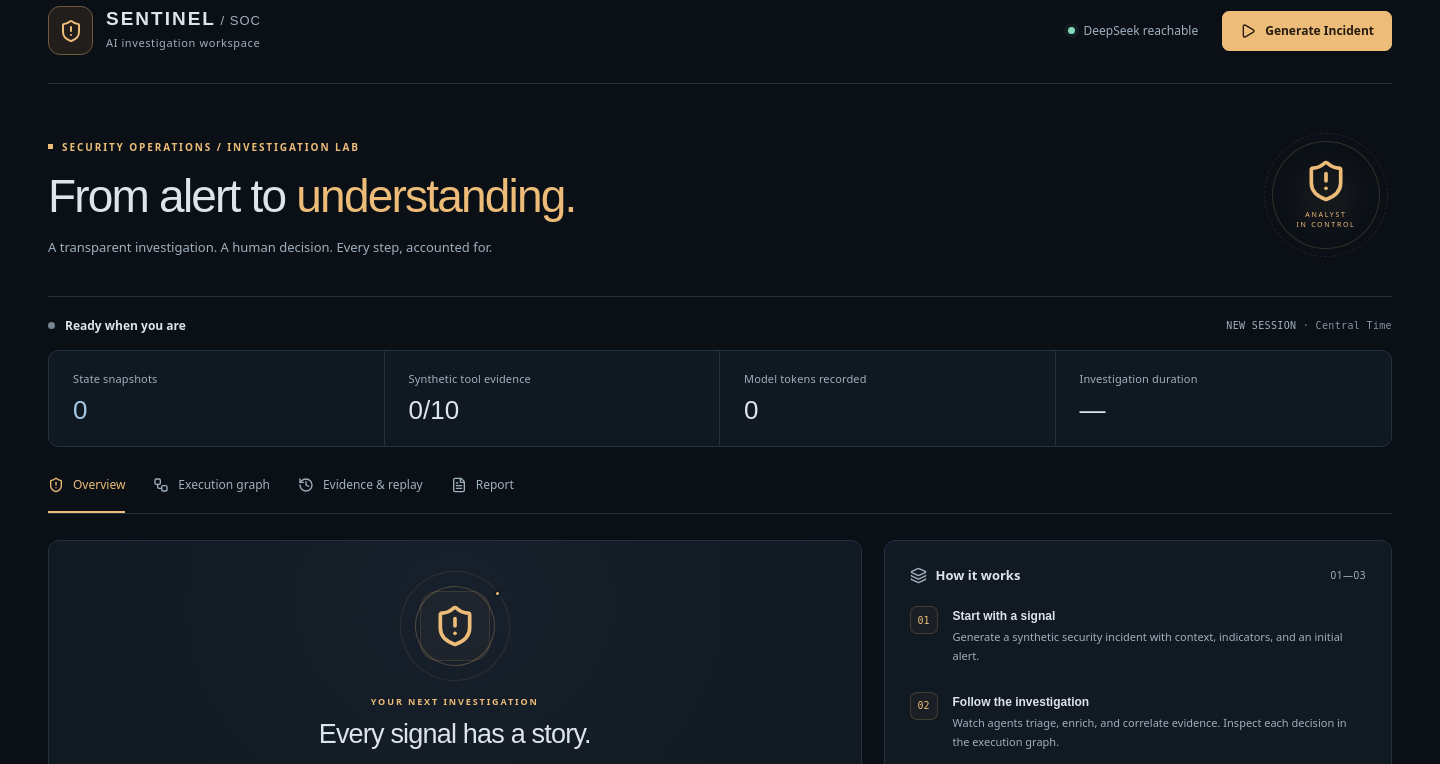
Test case: App › navigates graph, evidence, and report while preserving first-run state
expect the text "DeepSeek reachable" is shown: met, box [1084,22,1198,39]
Click the tab "Execution graph" at coordinates (212, 493), box [153,473,270,513]
(page scrolled)
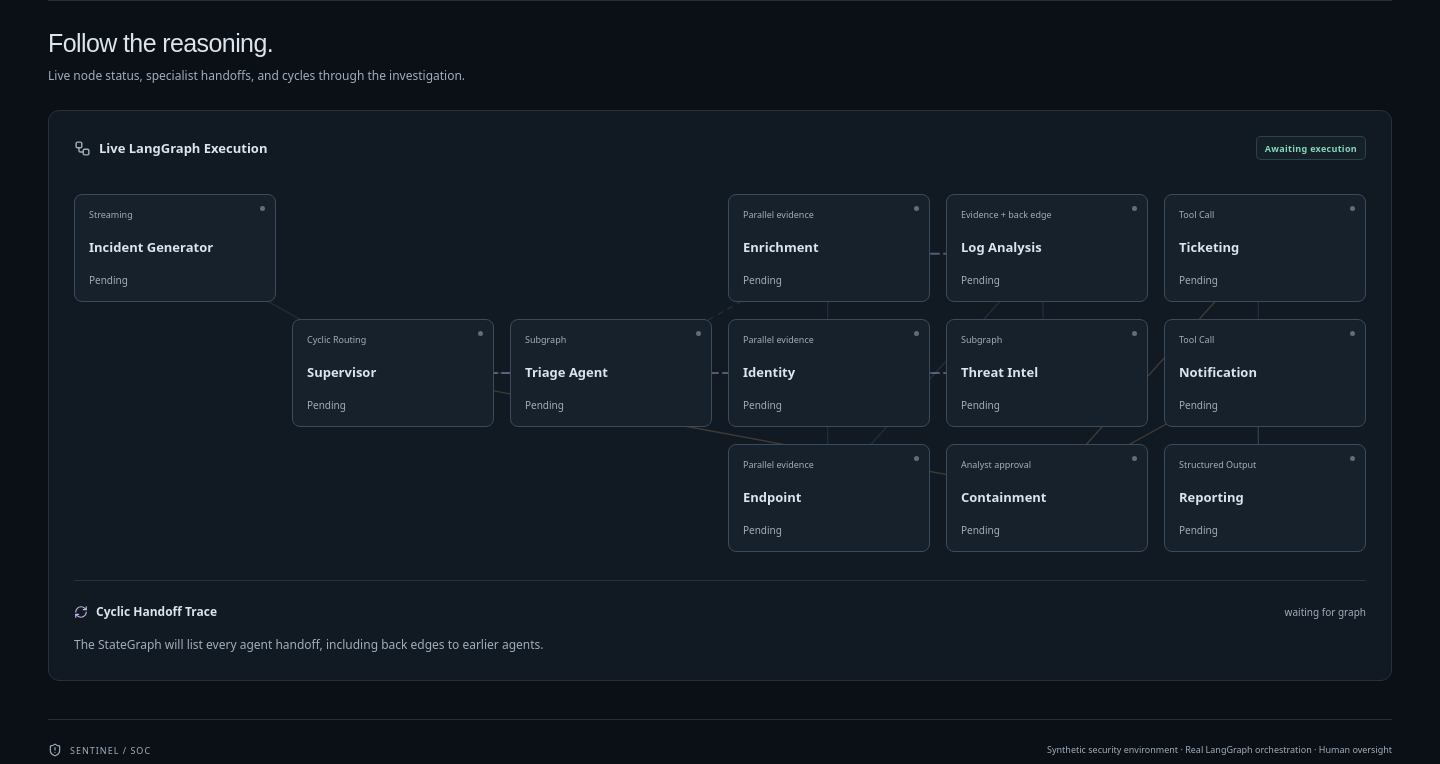
expect the text "Live LangGraph Execution" is shown: met, box [74,139,267,157]
expect the text "Cyclic Handoff Trace" is shown: met, box [96,603,217,620]
expect the heading "Every signal has a story." is gone: met
Press Arrowright
(page scrolled)
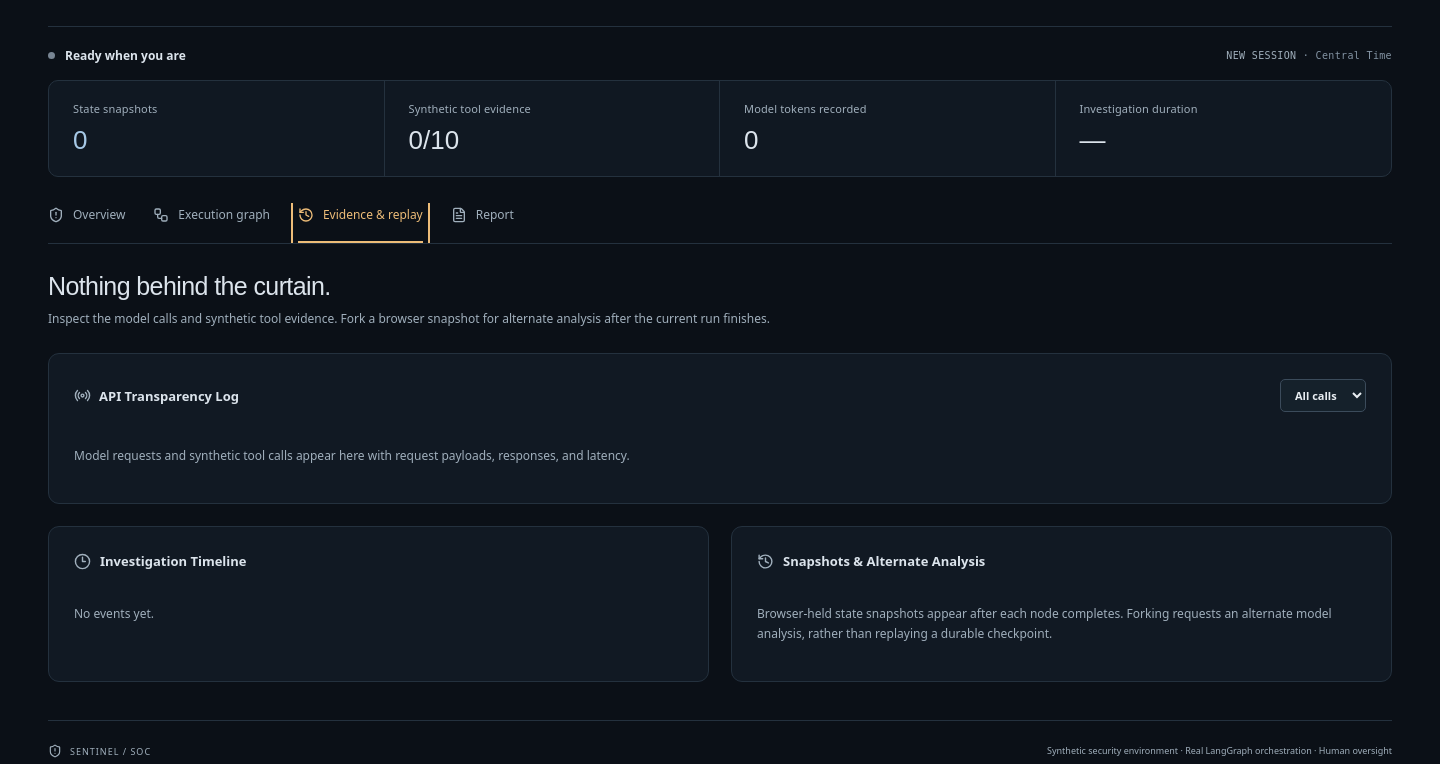
expect the text "Snapshots & Alternate Analysis" is shown: met, box [757,552,985,570]
expect the dropdown named "Filter API evidence" is shown: met, box [1280,379,1366,412]
Press End
(page scrolled)
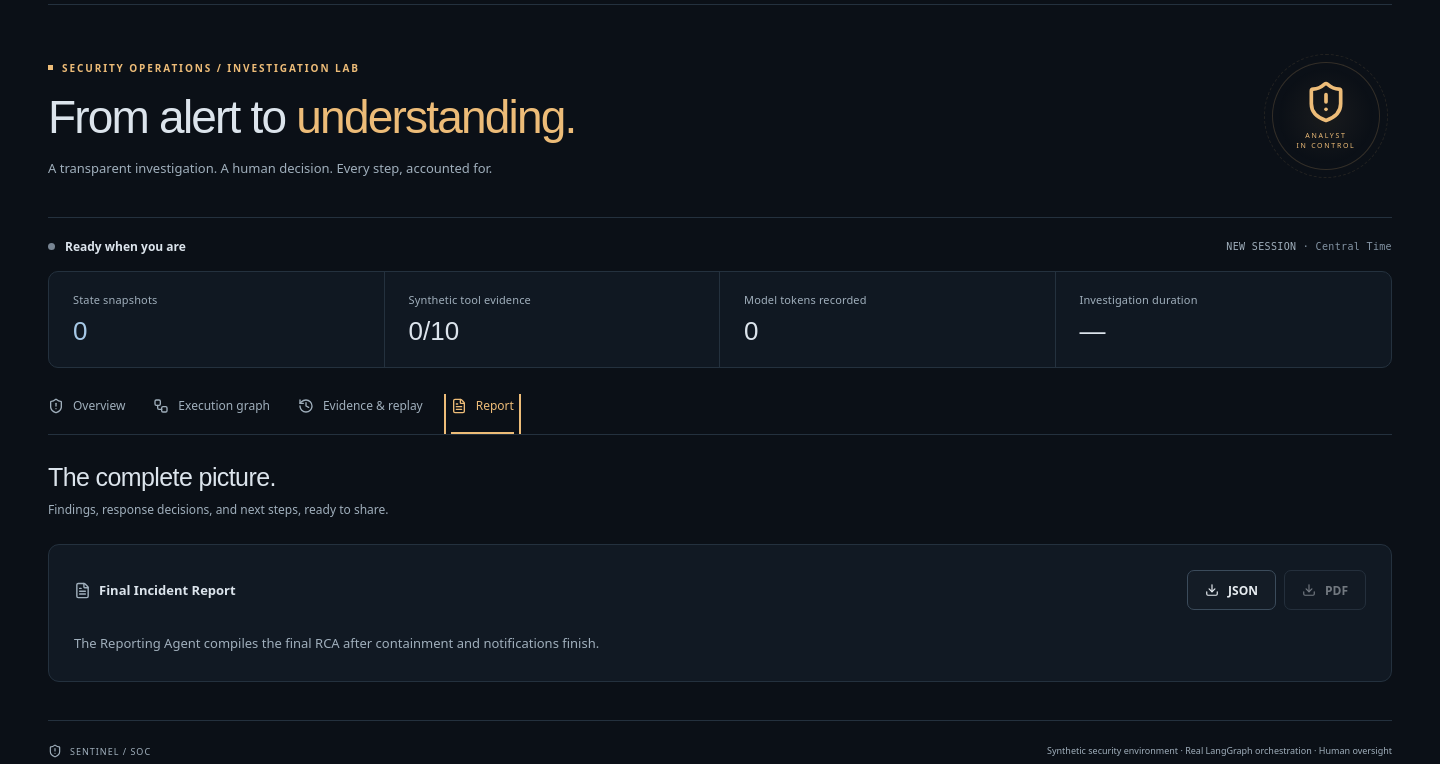
expect the text "Final Incident Report" is shown: met, box [74,581,236,599]
expect the button "PDF" is disabled: met, box [1284,570,1366,610]
Press Home
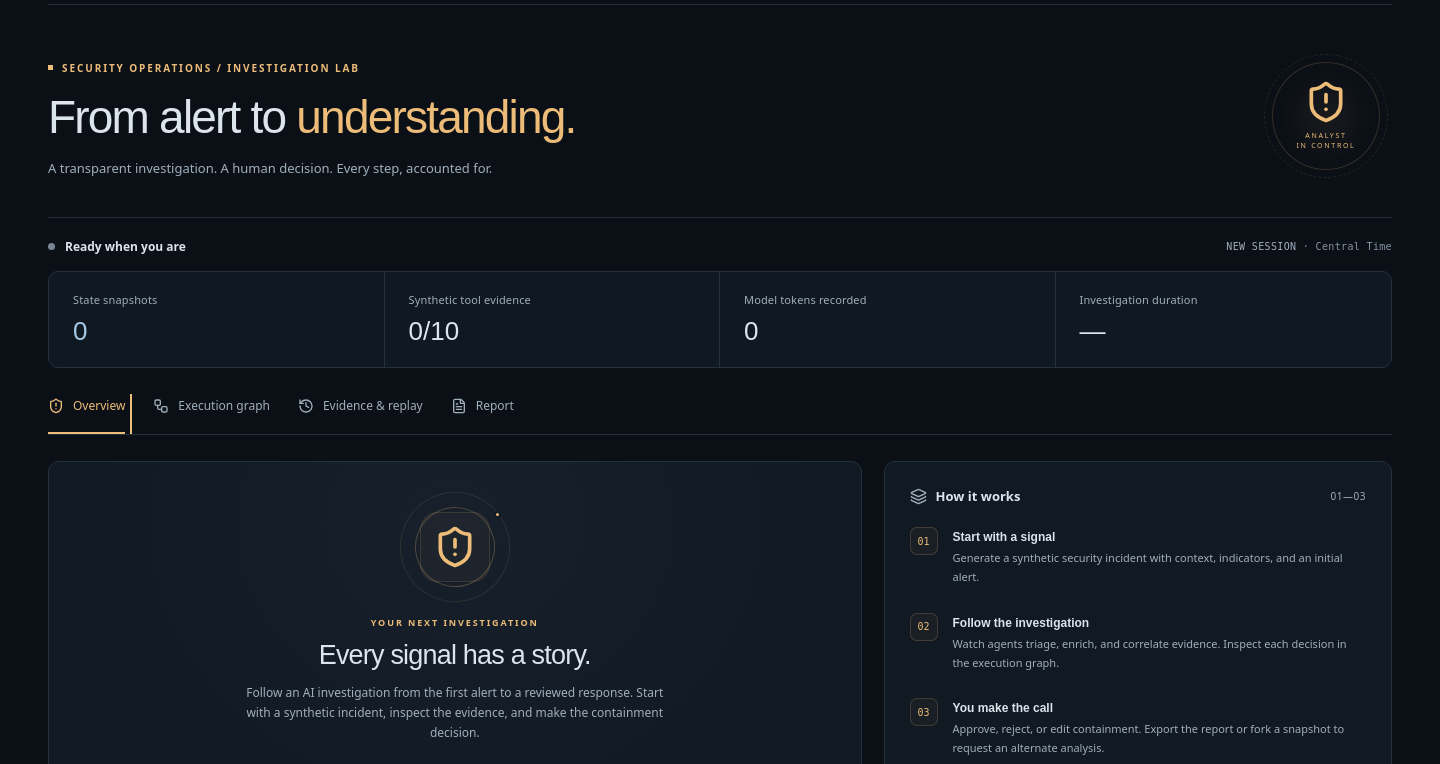
expect the heading "Every signal has a story." is shown: met, box [319,640,591,671]
